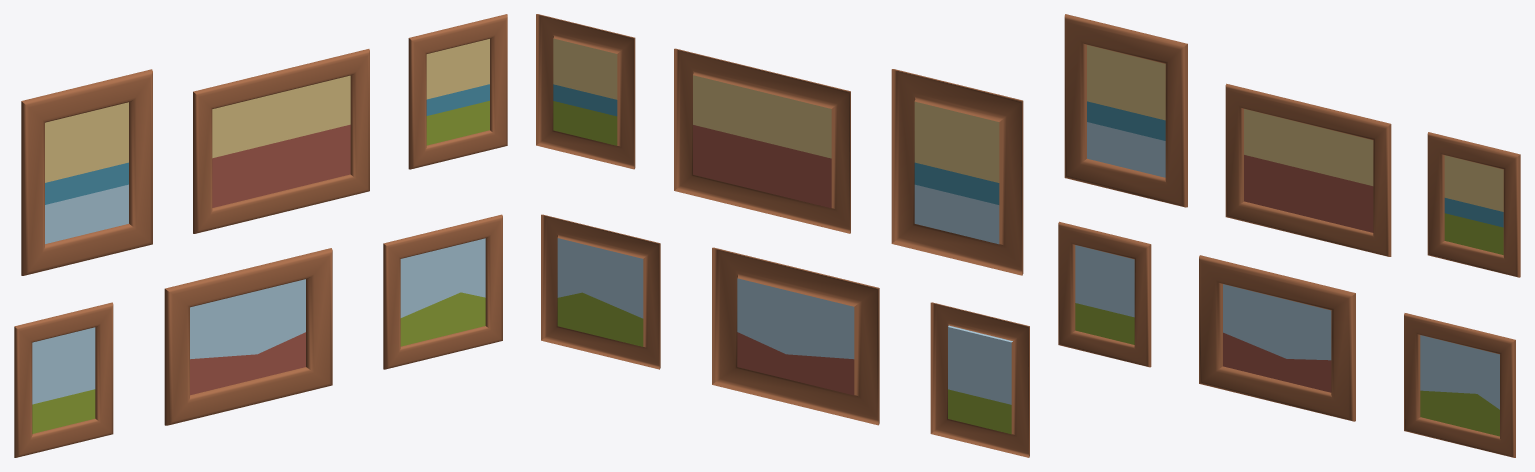
File: Draw 03.fbx
The picture shows the model from 3 angles, left to right: view 1: azimuth 30°, elevation 25°; view 2: azimuth 150°, elevation 25°; view 3: azimuth 330°, elevation 25°; orthographic projection. The views are drawn at different scales.
Visible parts, largest first — view 1: Cube.085, Cube.086, Cube.084, Cube.087, Cube.088, Cube.089; view 2: Cube.085, Cube.084, Cube.086, Cube.087, Cube.089, Cube.088; view 3: Cube.085, Cube.084, Cube.086, Cube.087, Cube.088, Cube.089.
Part boxes in pixels (x1,y1,x2,y2): Cube.085: [193, 49, 369, 233]; Cube.086: [164, 248, 332, 425]; Cube.084: [21, 69, 152, 275]; Cube.087: [383, 214, 502, 369]; Cube.088: [408, 14, 507, 169]; Cube.089: [14, 302, 113, 457]; Cube.085: [674, 48, 850, 233]; Cube.084: [891, 69, 1023, 275]; Cube.086: [712, 247, 879, 425]; Cube.087: [541, 214, 660, 369]; Cube.089: [930, 302, 1029, 457]; Cube.088: [536, 14, 635, 169]; Cube.085: [1225, 83, 1391, 256]; Cube.084: [1064, 14, 1187, 207]; Cube.086: [1199, 255, 1355, 421]; Cube.087: [1404, 313, 1515, 457]; Cube.088: [1427, 132, 1520, 277]; Cube.089: [1058, 221, 1151, 367].
Size of the model in its own units: 39.08 by 27.22 by 0.4441.
